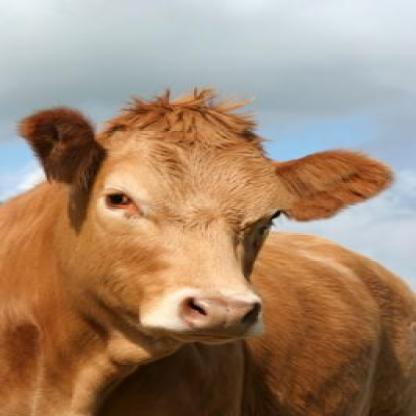lower: (170, 336, 236, 344)
mouth: (136, 285, 266, 345)
upper: (213, 305, 238, 323)
